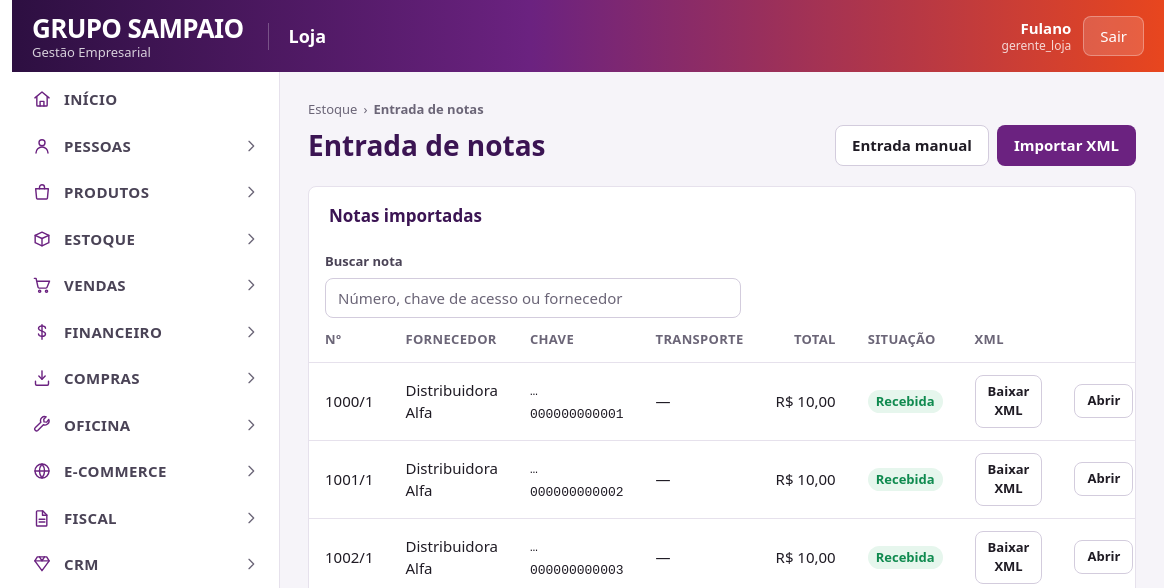
Test: Entrada de Notas: a 201ª nota não some › a busca pergunta ao servidor pelo número da nota antiga
The width and height of the screenshot is (1164, 588).
Type "1204" into the field labelled "Buscar nota" at (533,298), box 325,278 -> 741,318
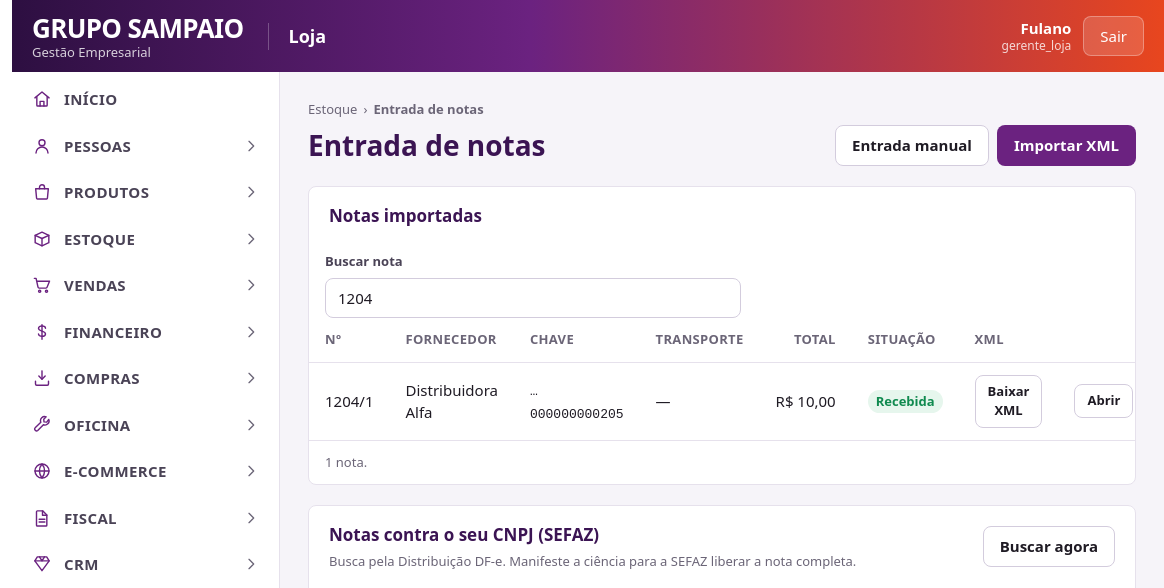
Expected: the text "1204/1" is shown, 309,362 -> 390,440
